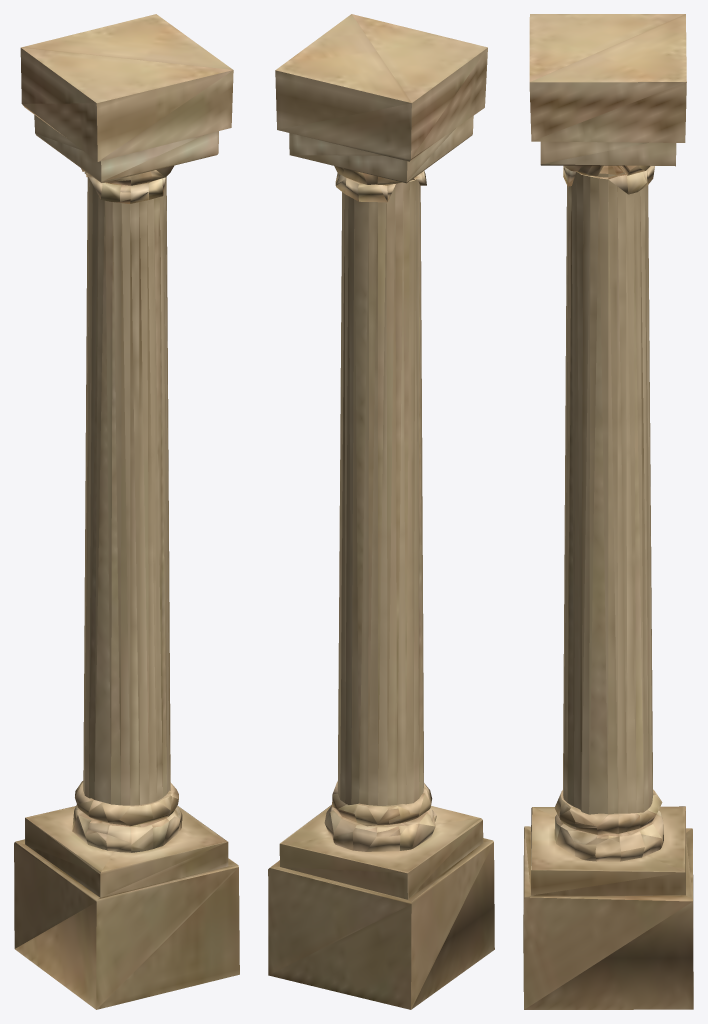
File: column.lod2.glb
3 renders of one model, left to right at view 1: azimuth 30°, elevation 25°; view 2: azimuth 150°, elevation 25°; view 3: azimuth 270°, elevation 25°, orthographic. The views are drawn at different scales.
Bounding box in the file's own units: 0.5 × 3 × 0.5.
Materials: 1 (1 with a texture image).
